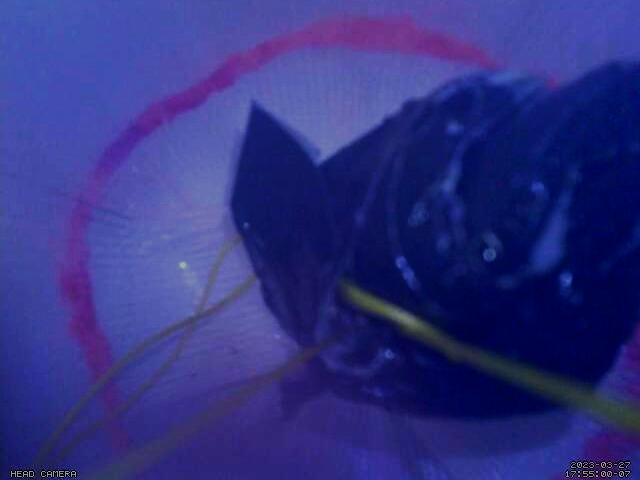head: (58, 13, 640, 480)
